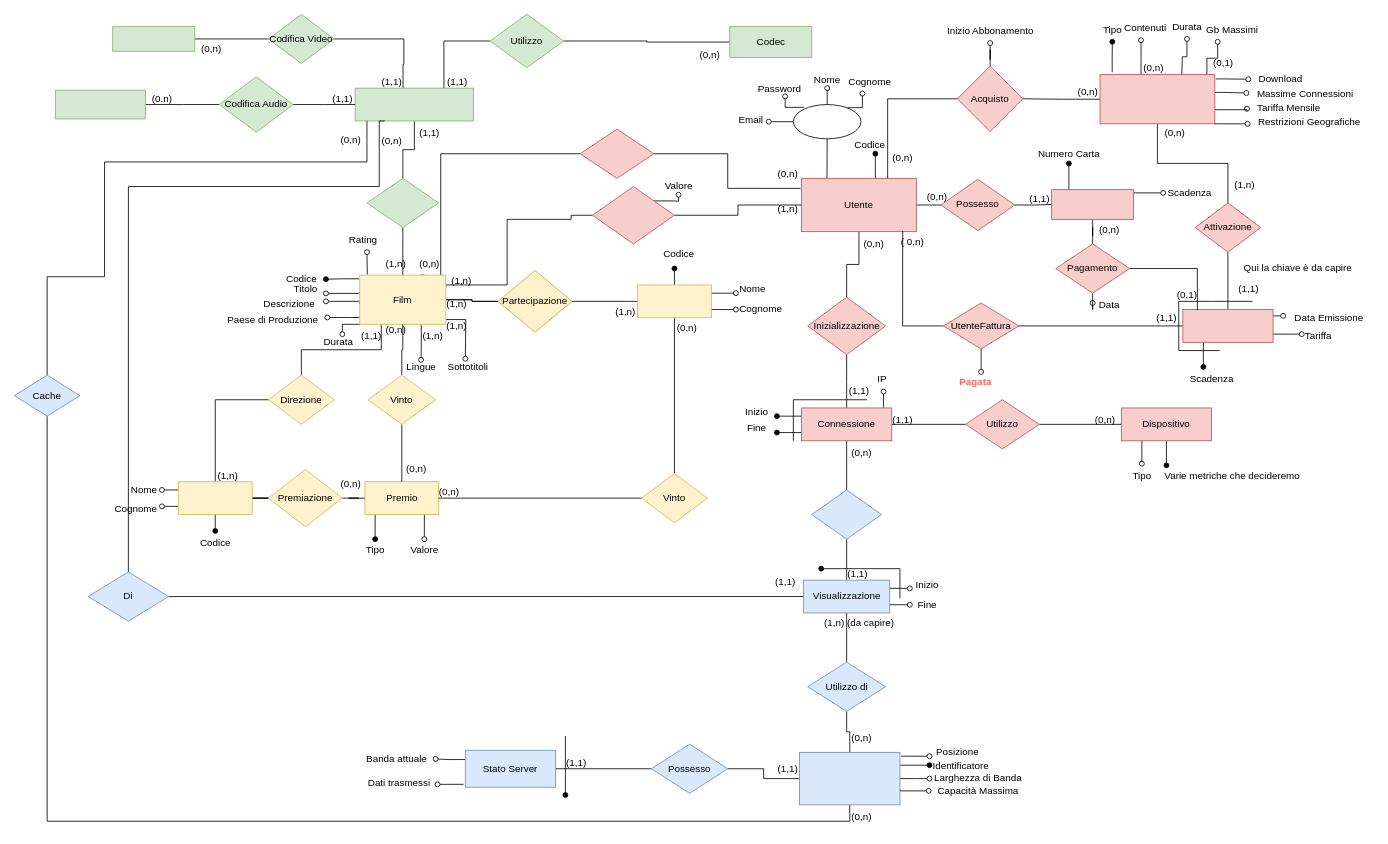
Image size: 1388x844. Some labels were removed from this diagram. The shapes that lost their labels are listed below. From the top down, each one's centre as x and y in pixels, then its label:
the point at 153,38: Formato Video
the point at 100,104: Formato Audio
the point at 414,104: Film Codificato
the point at 1157,99: Abbonamento
the point at 827,121: Informazioni Personali
the point at 616,153: Cronologia
the point at 402,203: Codifica
the point at 633,215: Rating Personalizzato
the point at 1092,204: Dati Fatturazione
the point at 674,301: Attori
the point at 1227,325: Fattura
the point at 215,498: Regista
the point at 846,514: Richiesta
the point at 849,778: Server
